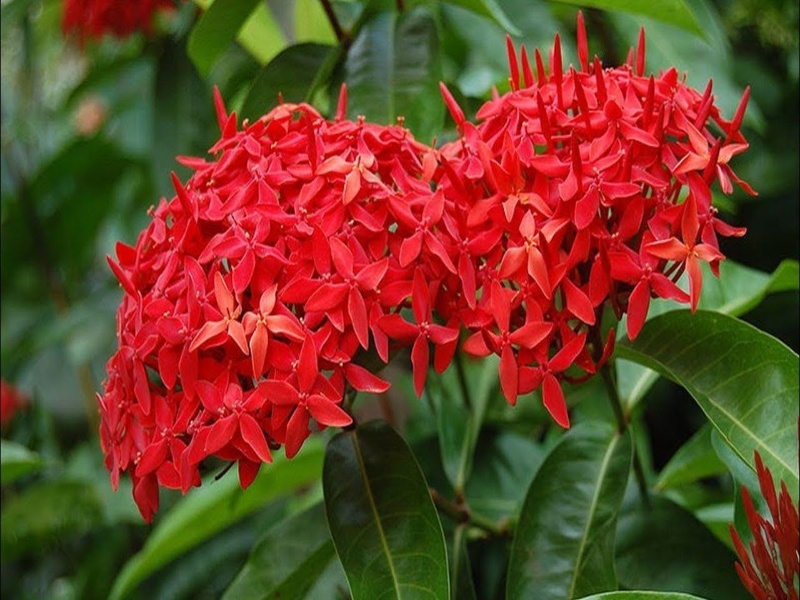Ixora: (60, 25, 781, 531)
